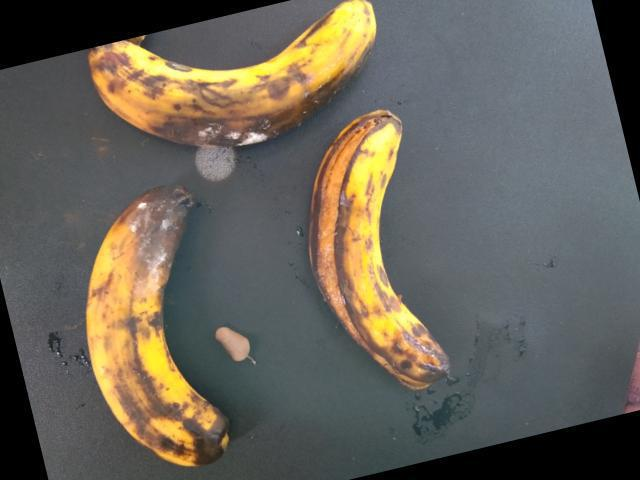rotten: (74, 180, 249, 479), (305, 108, 469, 417), (73, 0, 384, 161)
